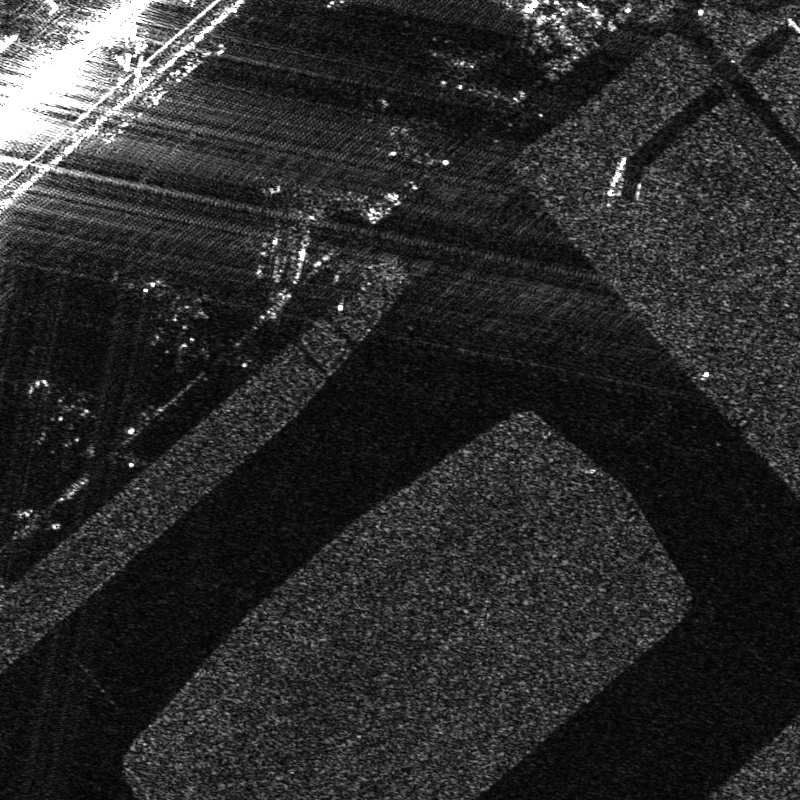Boeing737: (374, 91, 440, 171), (435, 45, 506, 106)
other: (139, 277, 212, 365), (21, 372, 97, 454)
